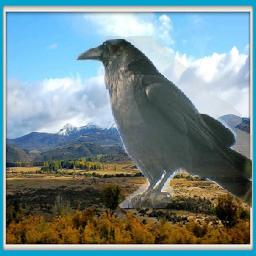Crow: (76, 36, 253, 208)
